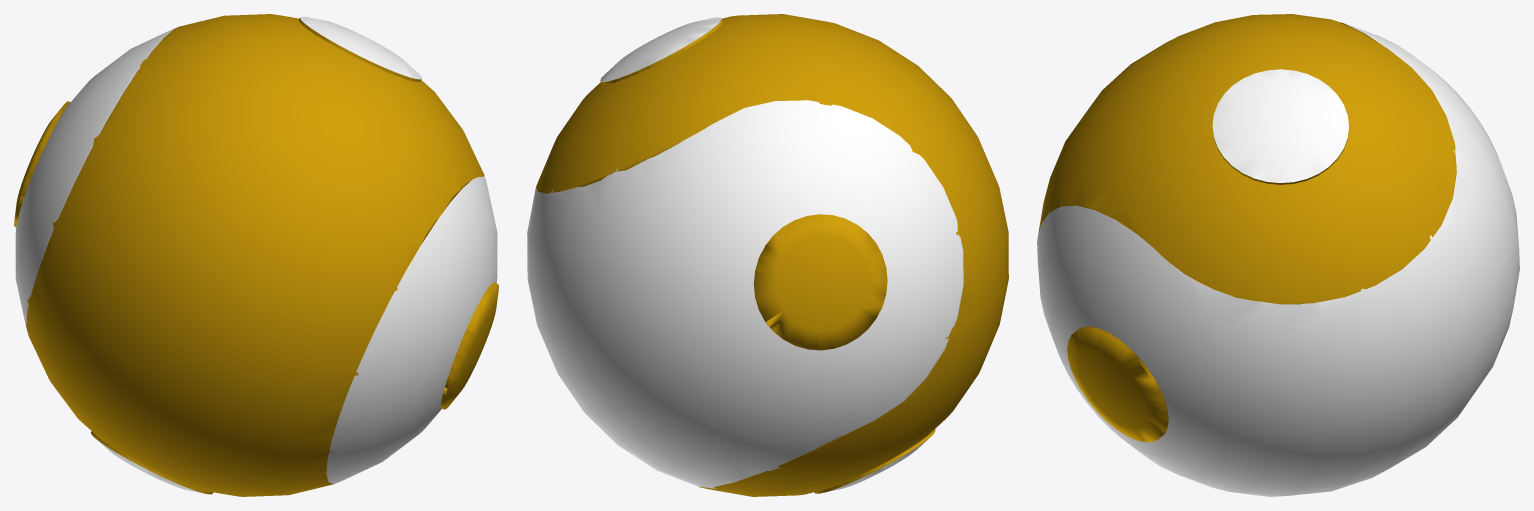
The model's file is yinyang_jade_yellow.obj.
The picture shows the model from 3 angles, left to right: view 1: azimuth 30°, elevation 25°; view 2: azimuth 150°, elevation 25°; view 3: azimuth 270°, elevation 25°; orthographic projection.
Parts seen in each view (by area): view 1: SphereDark, SphereLight, eyeDark, eyeLight; view 2: SphereLight, SphereDark, eyeDark, eyeLight; view 3: SphereLight, SphereDark, eyeLight, eyeDark.
Boxes of the visible parts, box(x1,y1,x2,y2) form: SphereDark: box(27, 14, 484, 496); SphereLight: box(15, 27, 497, 483); eyeDark: box(14, 101, 498, 409); eyeLight: box(91, 16, 421, 494); SphereLight: box(527, 100, 963, 488); SphereDark: box(536, 14, 1008, 496); eyeDark: box(753, 214, 887, 350); eyeLight: box(600, 17, 935, 493); SphereLight: box(1037, 22, 1519, 496); SphereDark: box(1037, 14, 1456, 304); eyeLight: box(1212, 69, 1348, 184); eyeDark: box(1067, 279, 1302, 442).
Bounding box in the file's own units: 2 × 2 × 2.
